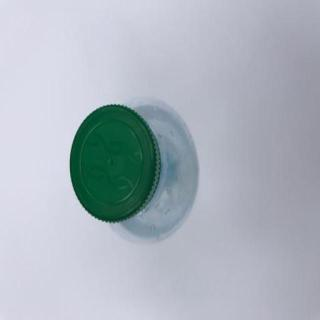Plastic-bottle: (70, 96, 200, 244)
